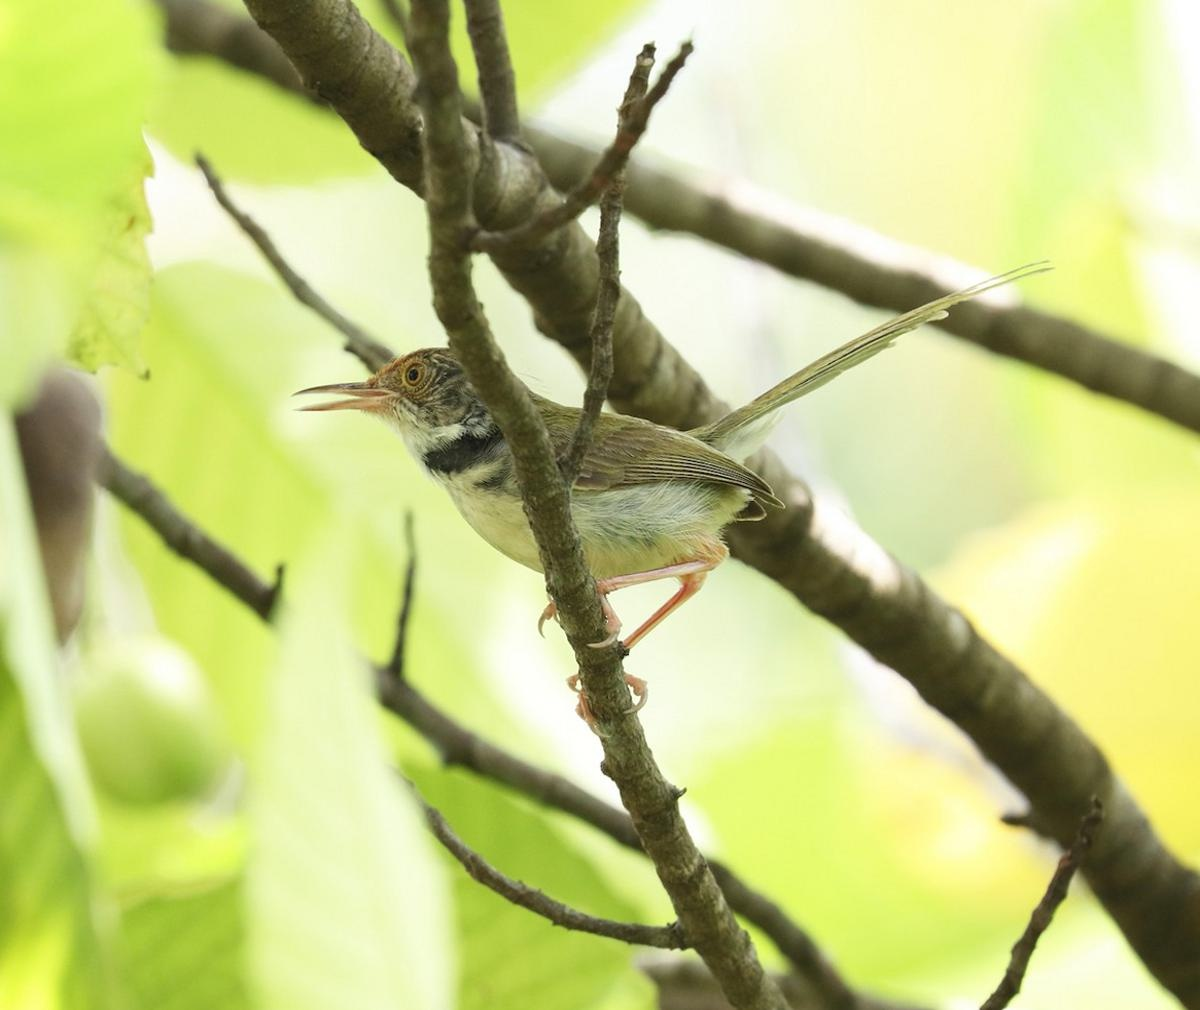tailorbird: (287, 284, 1055, 677)
